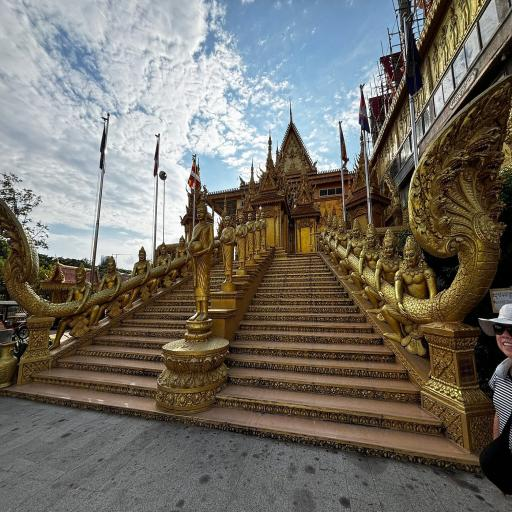ran: (379, 43, 512, 332), (0, 192, 69, 334)
than: (48, 256, 100, 343), (385, 233, 434, 324), (181, 190, 212, 330), (85, 245, 129, 327), (346, 218, 384, 298), (370, 226, 404, 309), (121, 234, 155, 306), (340, 210, 368, 284), (216, 210, 234, 285), (152, 232, 173, 289), (168, 223, 188, 280), (332, 208, 349, 265), (318, 210, 336, 263), (249, 204, 263, 269), (234, 208, 246, 278), (323, 210, 339, 262), (243, 206, 254, 272), (259, 204, 270, 264)
